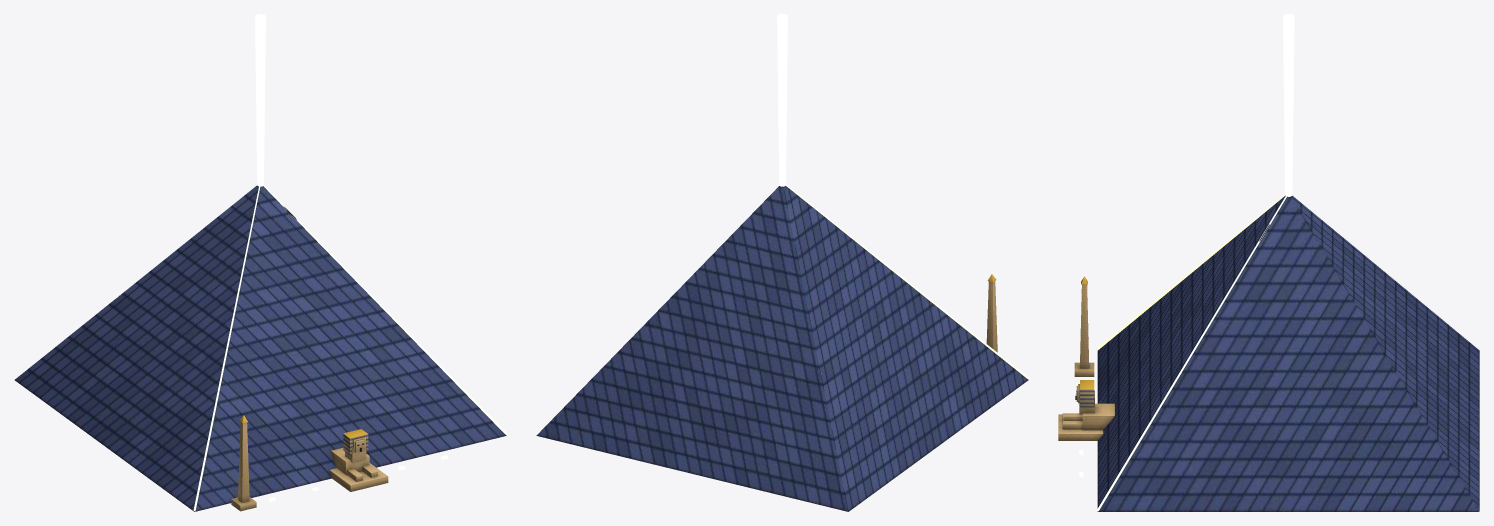
The model's file is piramide.glb.
3 renders of one model, left to right at view 1: azimuth 30°, elevation 25°; view 2: azimuth 150°, elevation 25°; view 3: azimuth 270°, elevation 25°, orthographic. The views are drawn at different scales.
Visible parts, largest first — view 1: piramide; view 2: piramide; view 3: piramide.
Part boxes in pixels (x1,y1,x2,y2): piramide: [14, 14, 507, 511]; piramide: [536, 14, 1029, 511]; piramide: [1058, 14, 1479, 511].
Size of the model in its own units: 58.26 by 69.5 by 63.99.
1 material, 1 textured.
